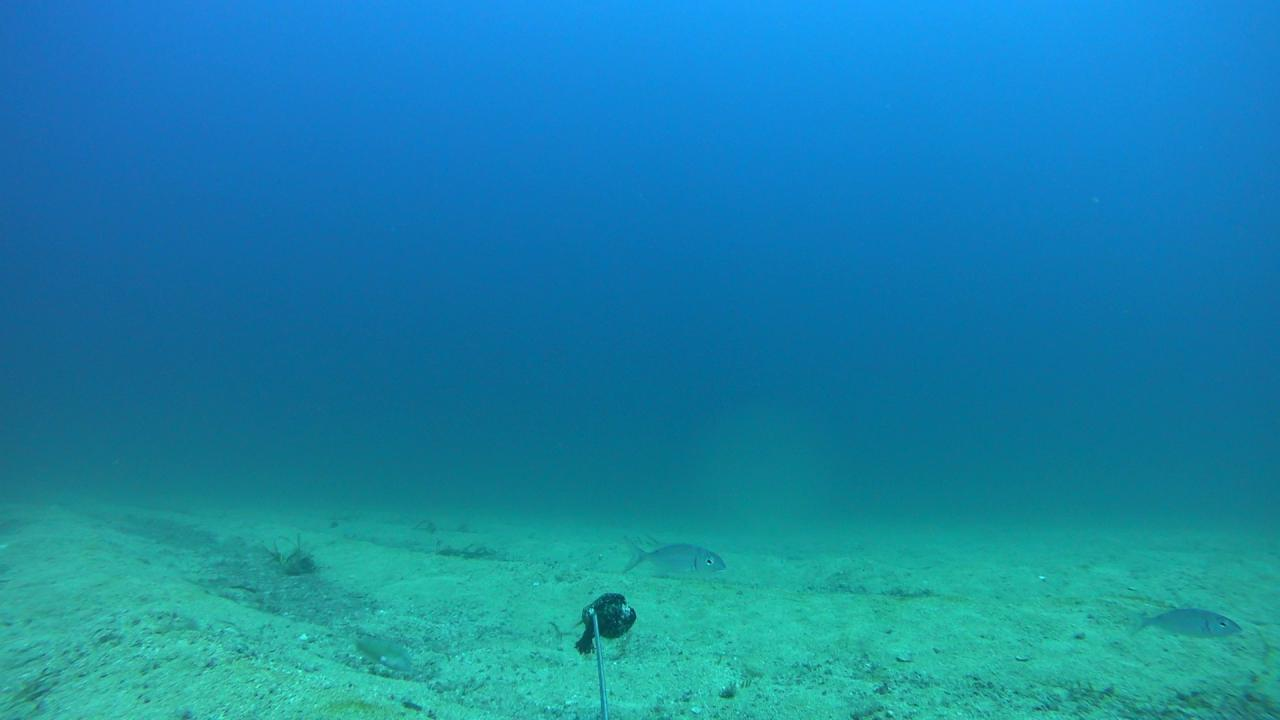pagellus: (623, 533, 725, 577), (1128, 607, 1241, 641)
raor: (351, 634, 417, 674)
